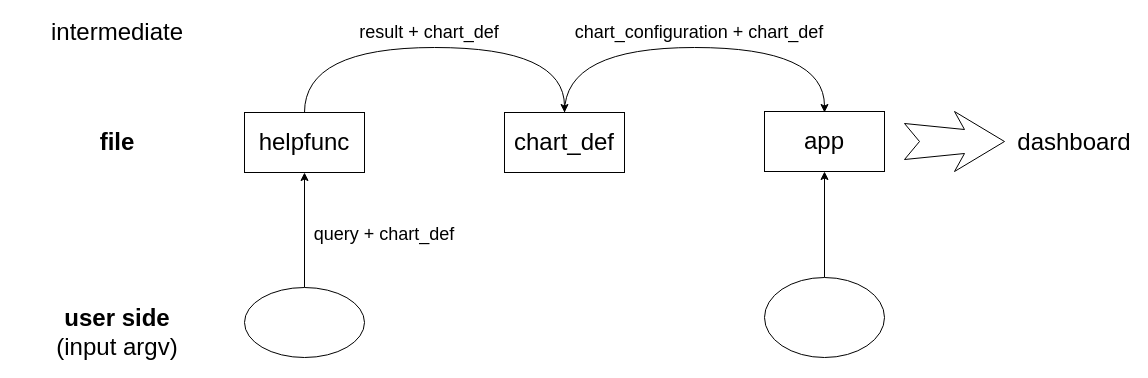
This 1148x378 diagram has some shape labels left out. The centre of each missing label's shape, as x and y in pixels:
".json file" goes at [304,322].
"run app.py" goes at [824,317].
